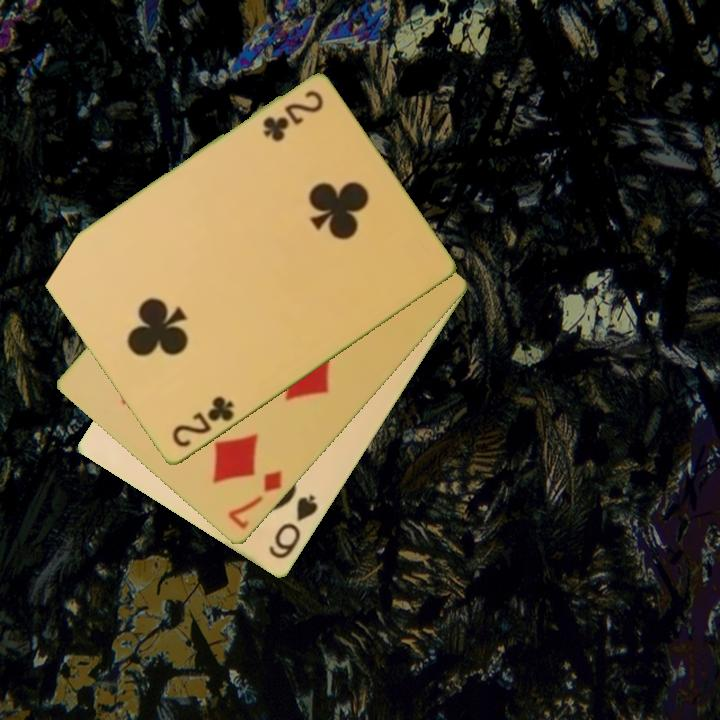2c: (168, 393, 237, 451), (259, 87, 327, 144)
6s: (264, 491, 322, 563)
7d: (224, 467, 285, 533)
